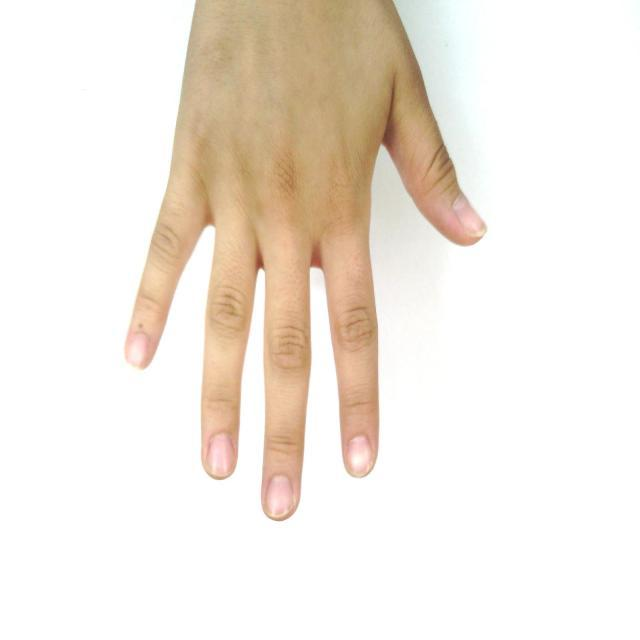Fingernail: (454, 197, 486, 233), (266, 476, 293, 518), (209, 435, 234, 476), (348, 437, 371, 476), (127, 334, 148, 367)
